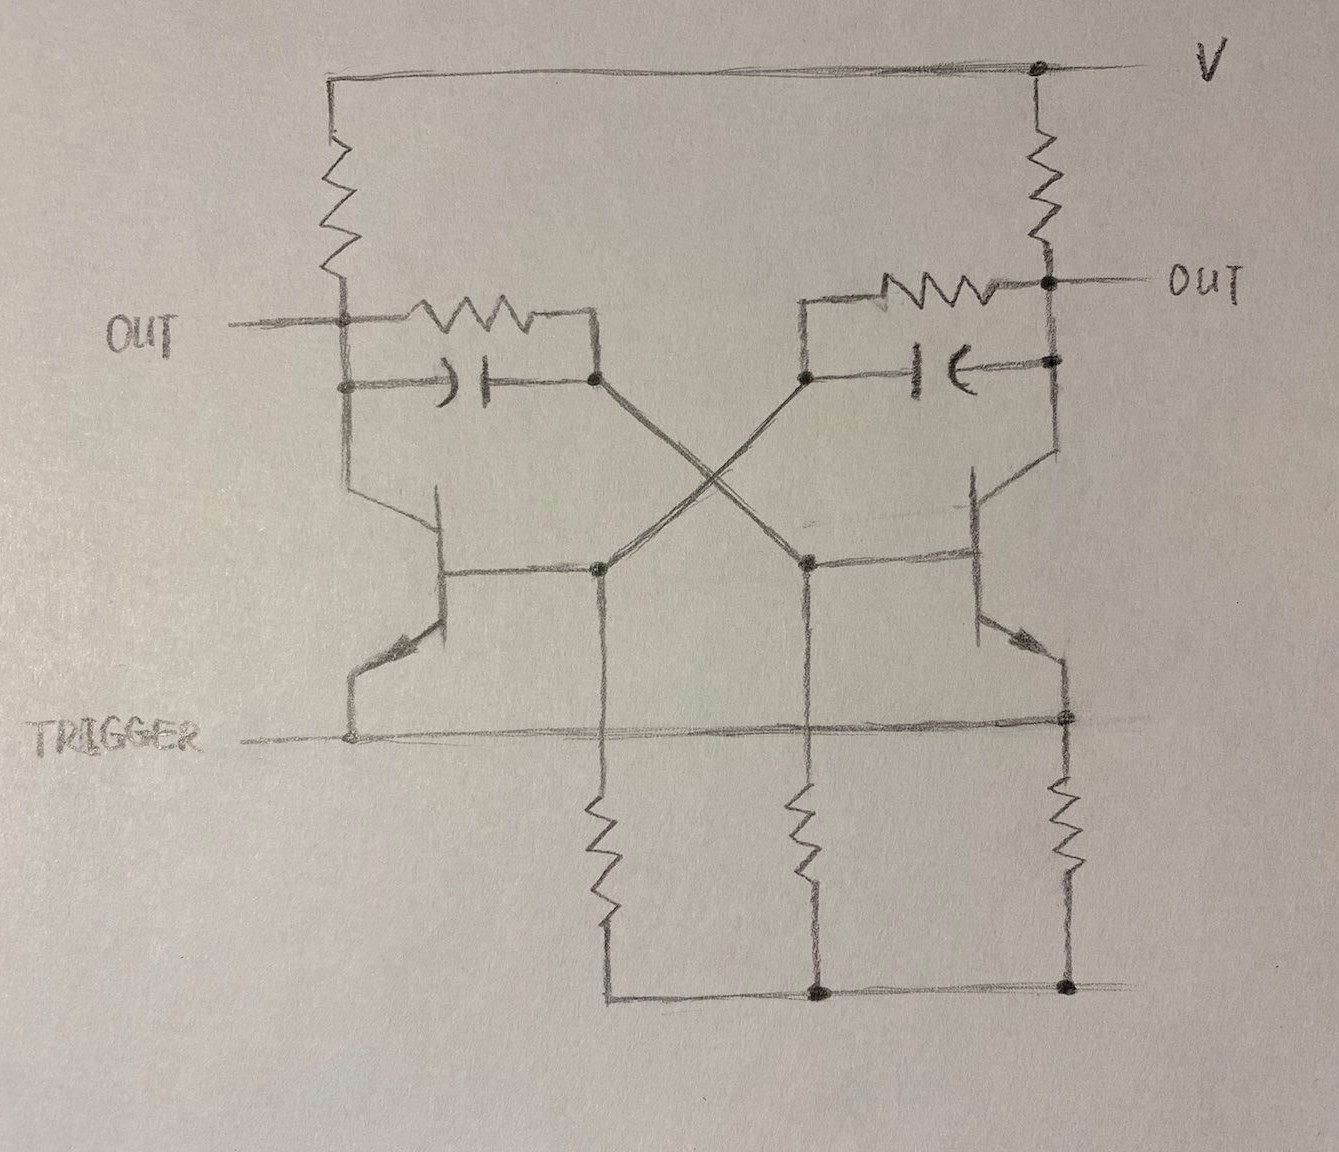capacitor.unpolarized: (894, 334, 1003, 406), (428, 345, 514, 414)
crossover: (685, 447, 746, 509), (779, 703, 839, 759), (580, 710, 627, 759)
junction: (775, 540, 837, 589), (792, 968, 845, 1023), (1033, 958, 1083, 1011), (1040, 694, 1091, 744), (583, 976, 638, 1022), (327, 715, 376, 759), (576, 544, 619, 592), (323, 368, 369, 409), (786, 357, 829, 398), (1030, 261, 1071, 304), (1016, 46, 1057, 88), (321, 299, 365, 338), (313, 58, 359, 96), (1033, 345, 1073, 387), (577, 357, 613, 400), (573, 293, 607, 328), (787, 285, 819, 318)
resistor: (314, 127, 373, 281), (861, 265, 1013, 316), (580, 790, 631, 936), (394, 291, 545, 339), (1018, 120, 1071, 250), (1044, 767, 1094, 894), (783, 777, 832, 902)
terminal: (1095, 962, 1190, 1006), (220, 721, 288, 759), (1107, 46, 1172, 79), (212, 303, 266, 339), (1116, 263, 1164, 291)
text: (18, 710, 207, 770), (1166, 253, 1249, 315), (99, 307, 181, 364), (1192, 28, 1234, 88)
transistor: (954, 443, 1101, 672), (330, 467, 468, 691)
